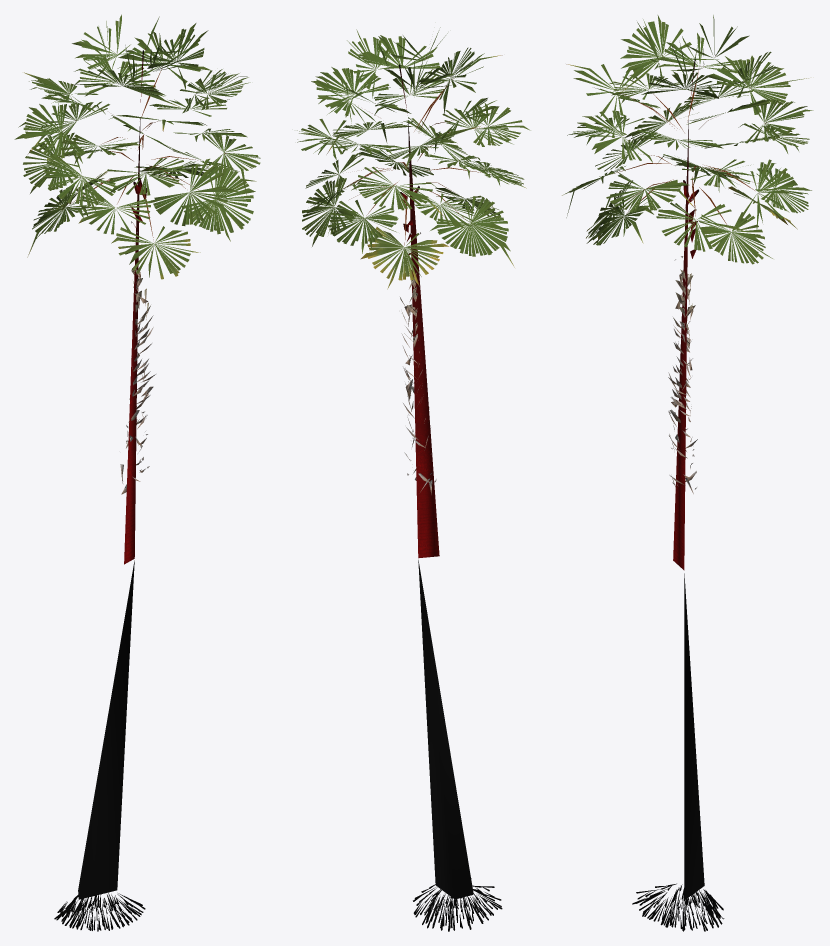
The model's file is palm_fan_lo.glb.
3 views of the same model, side by side, from view 1: azimuth 30°, elevation 25°; view 2: azimuth 150°, elevation 25°; view 3: azimuth 270°, elevation 25° (orthographic). The views are drawn at different scales.
Visible parts, largest first — view 1: Washingtonia_robusta_HD_V2; view 2: Washingtonia_robusta_HD_V2; view 3: Washingtonia_robusta_HD_V2.
Boxes of the visible parts, x1,y1,x2,y2 form: Washingtonia_robusta_HD_V2: (14,14,260,931); Washingtonia_robusta_HD_V2: (297,27,530,931); Washingtonia_robusta_HD_V2: (562,15,813,931).
Size of the model in its own units: 3.52 by 13.79 by 3.48.
15 materials, 15 textured.
